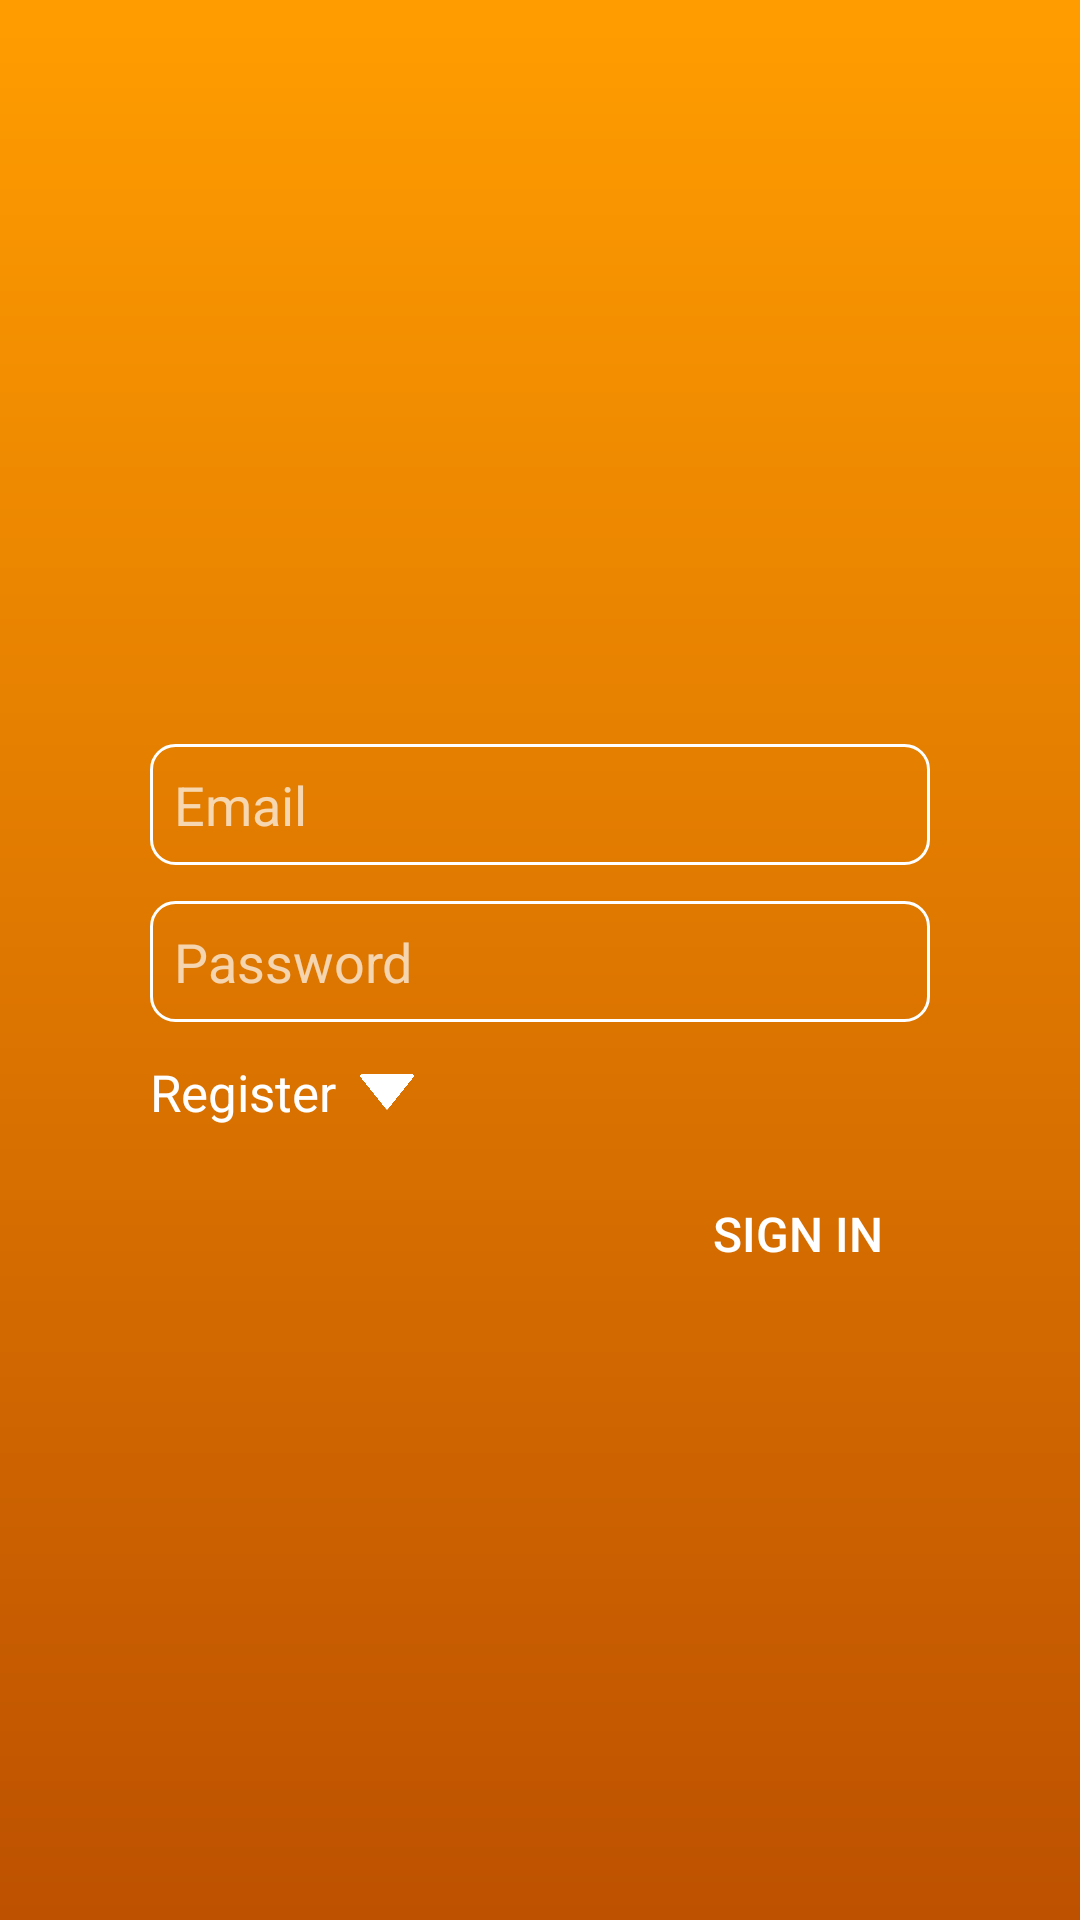

Screen size 1080px×1920px. Icon name, then its box in pixels as (x1, y1, x2, y2):
expand: (360, 1074, 414, 1110)
